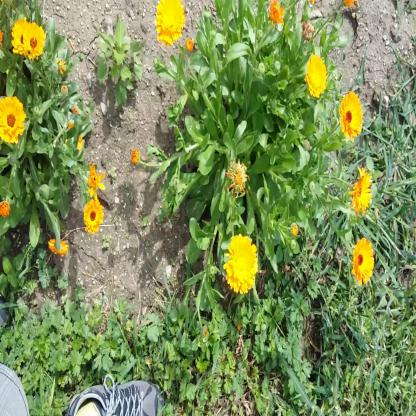marigold: (226, 236, 258, 292), (155, 0, 185, 46), (0, 94, 26, 139), (340, 92, 363, 138), (352, 238, 374, 284), (306, 57, 328, 98), (24, 18, 46, 58), (80, 198, 102, 234), (352, 172, 373, 208), (11, 16, 30, 55), (48, 234, 68, 256)
